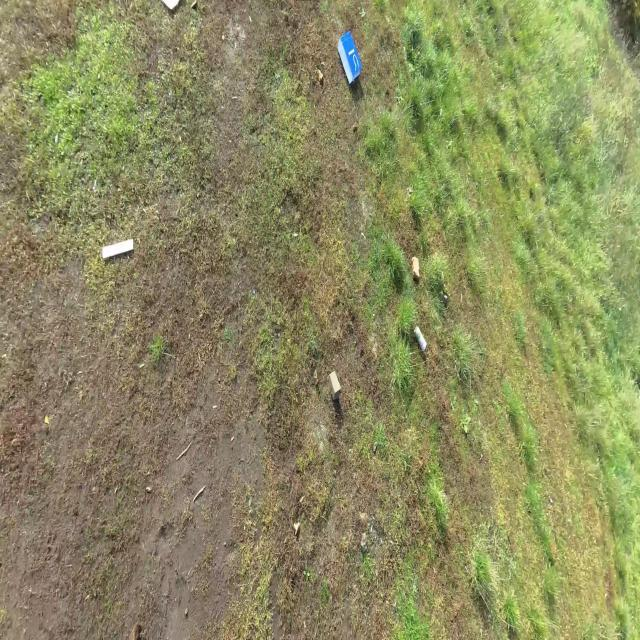rubbish: (336, 31, 362, 85), (102, 238, 134, 259), (327, 368, 342, 402), (413, 324, 427, 353), (159, 0, 181, 11), (128, 619, 139, 640), (412, 256, 419, 281)
